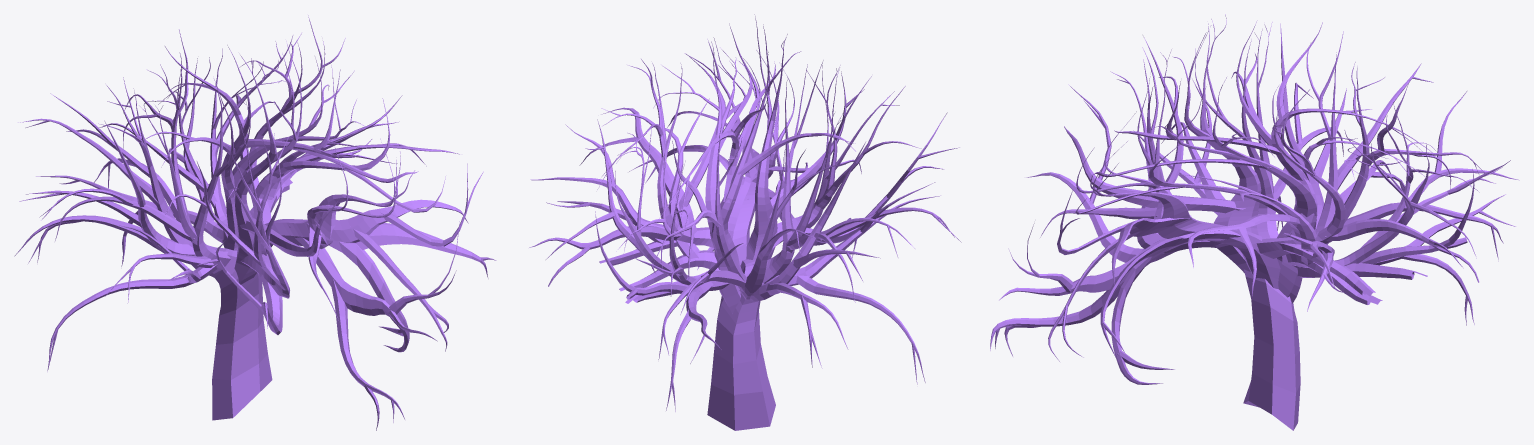
File: tree.glb
3 renders of one model, left to right at view 1: azimuth 30°, elevation 25°; view 2: azimuth 150°, elevation 25°; view 3: azimuth 270°, elevation 25°, orthographic. The views are drawn at different scales.
Visible parts, largest first — view 1: tree; view 2: tree; view 3: tree.
Part boxes in pixels (x1,y1,x2,y2): tree: (14, 15, 496, 430); tree: (529, 14, 961, 430); tree: (990, 14, 1519, 430).
Size of the model in its own units: 46.85 by 46.03 by 54.06.
